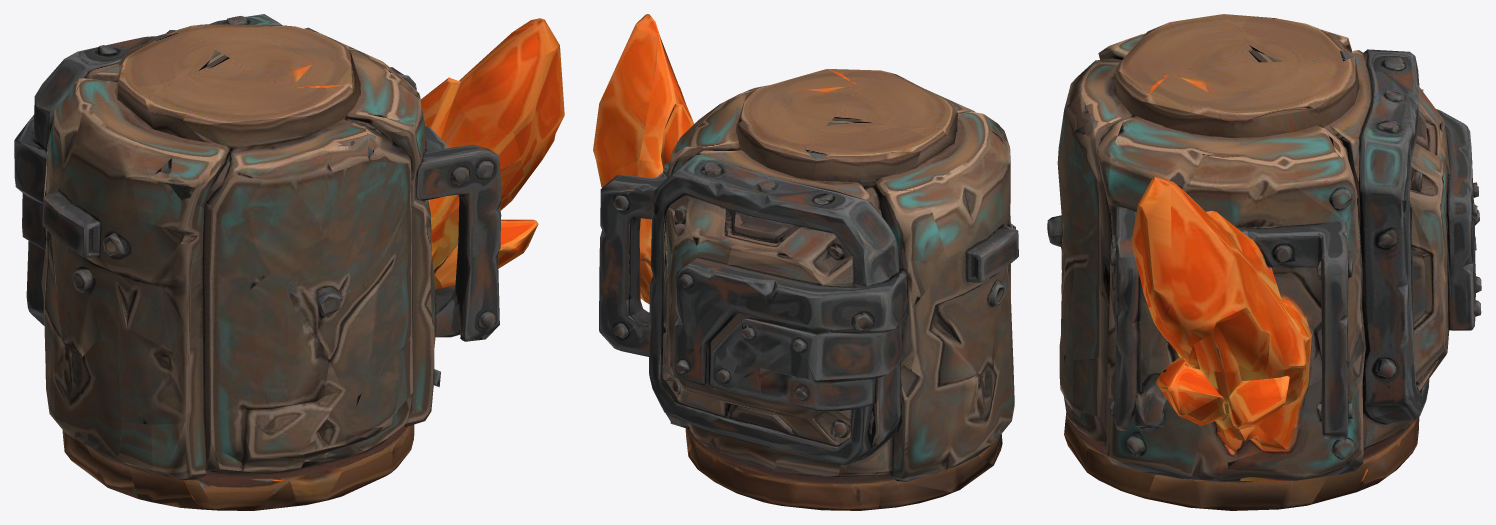
The model's file is 09_crystal_spur.glb.
The picture shows the model from 3 angles, left to right: view 1: azimuth 30°, elevation 25°; view 2: azimuth 150°, elevation 25°; view 3: azimuth 270°, elevation 25°; orthographic projection. The views are drawn at different scales.
Visible parts, largest first — view 1: output_unwrapped; view 2: output_unwrapped; view 3: output_unwrapped.
Part boxes in pixels (x1,y1,x2,y2): output_unwrapped: (14, 14, 564, 510); output_unwrapped: (593, 14, 1018, 510); output_unwrapped: (1047, 14, 1481, 510).
Size of the model in its own units: 1.9 by 1.49 by 1.51.
1 material, 1 textured.
